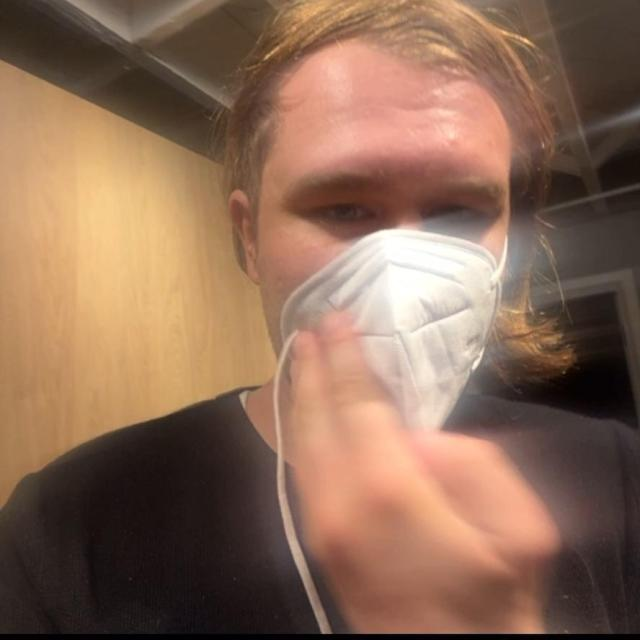no-helmet: (210, 0, 540, 436)
